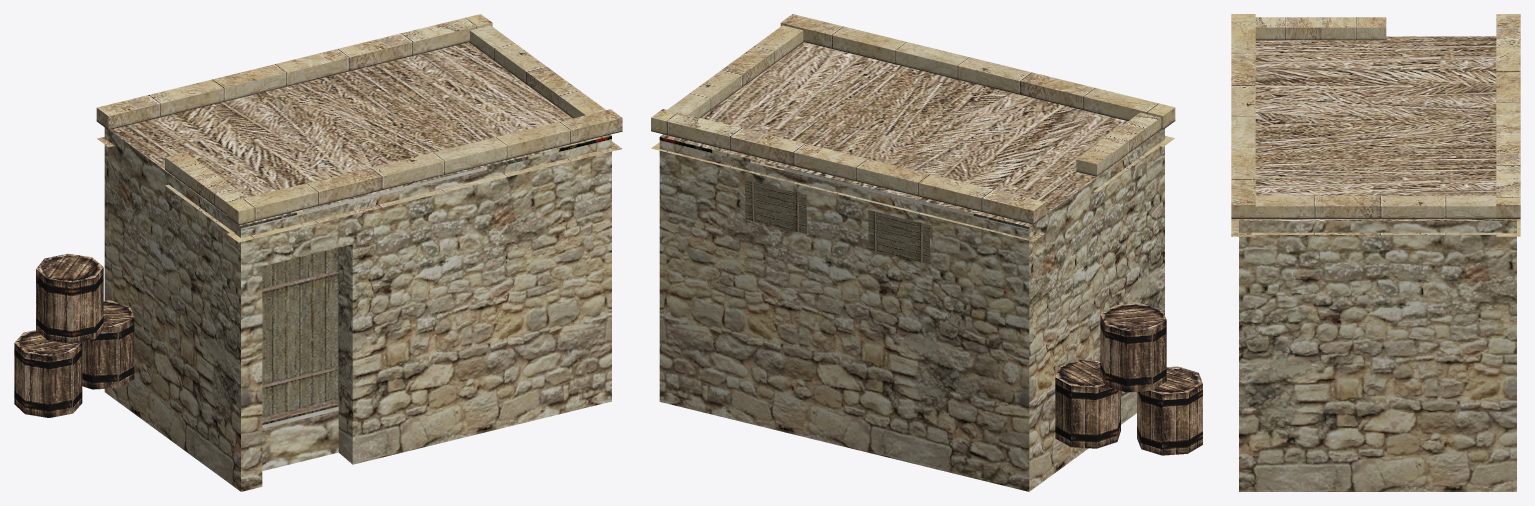
The model's file is kart_corral.dae.
3 renders of one model, left to right at view 1: azimuth 30°, elevation 25°; view 2: azimuth 150°, elevation 25°; view 3: azimuth 270°, elevation 25°, orthographic. The views are drawn at different scales.
Parts seen in each view (by area): view 1: Building; view 2: Building; view 3: Building.
Part boxes in pixels (left/top/right/bottom): Building: left=14, top=14, right=622, bottom=491; Building: left=651, top=14, right=1202, bottom=491; Building: left=1231, top=14, right=1520, bottom=491.
Bounding box in the file's own units: 13.46 × 7.26 × 6.56.
